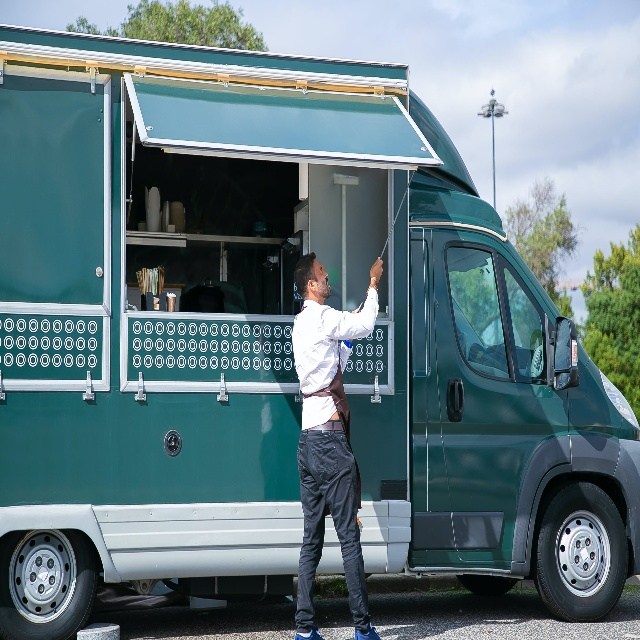Sin_guantes: (369, 256, 383, 285), (351, 307, 361, 314)
